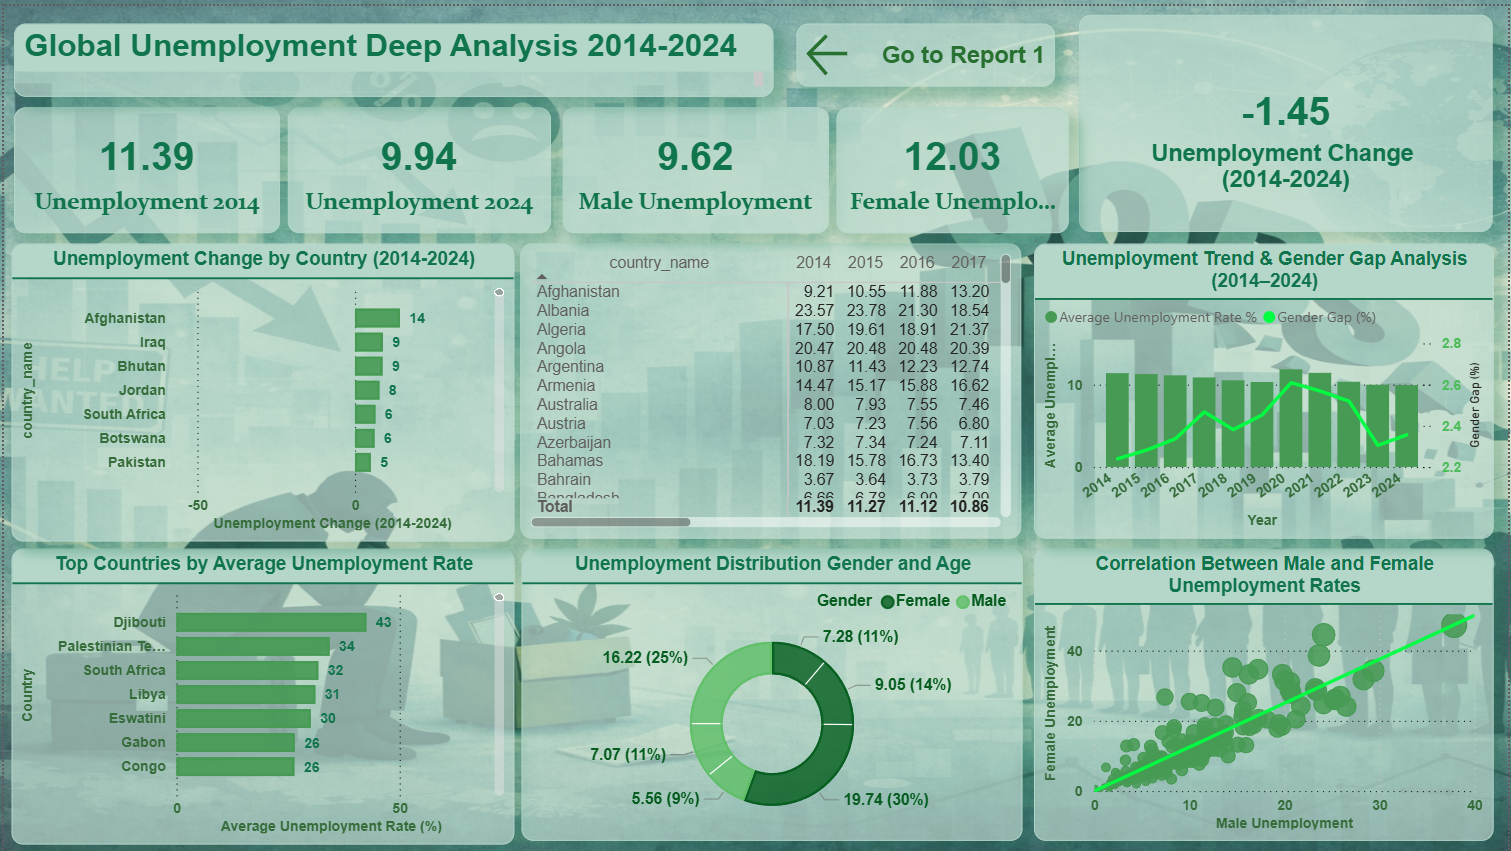

Layout of this report page (visuals, bound fields, positions):
{"tool":"powerbi","page":{"name":"Global Unemployment Deep Analysis 2014-2024","canvas":[1280,720],"ordinal":1},"visuals":[{"type":"clusteredBarChart","title":"Top Countries by Average Unemployment Rate ","fields":{"Category":["global_unemployment_data.country_name"],"Y":["global_unemployment_data.Average Unemployment Rate %"]},"box":[5.9,461.6,428.3,252.2],"z":0},{"type":"donutChart","title":"Unemployment Distribution Gender and Age","fields":{"Category":["global_unemployment_data.sex"],"Y":["global_unemployment_data.Average Unemployment Rate %"],"Series":["global_unemployment_data.age_categories"]},"box":[440.7,461.6,426.7,248.8],"z":1000},{"type":"card","fields":{"Values":["global_unemployment_data.Unemployment 2014"]},"box":[8.3,85.7,226.1,107.1],"z":2000},{"type":"card","fields":{"Values":["global_unemployment_data.Unemployment 2024"]},"box":[241.5,85.7,223.7,107.1],"z":3000},{"type":"card","fields":{"Values":["global_unemployment_data.Unemployment Change (2014-2024)"]},"box":[914.7,7.4,352.2,185],"z":4000},{"type":"clusteredBarChart","title":"Unemployment Change by Country (2014-2024)","fields":{"Category":["global_unemployment_data.country_name"],"Y":["global_unemployment_data.Unemployment Change (2014-2024)"]},"box":[5.9,202.3,428.3,253.4],"z":5000},{"type":"pivotTable","fields":{"Rows":["global_unemployment_data.country_name"],"Columns":["global_unemployment_data.Year","global_unemployment_data.sex"],"Values":["global_unemployment_data.Average Unemployment Rate %"]},"box":[439.5,202.3,426.7,251.2],"z":6000},{"type":"scatterChart","title":"Correlation Between Male and Female Unemployment Rates","fields":{"X":["global_unemployment_data.Male Unemployment"],"Y":["global_unemployment_data.Female Unemployment"],"Size":["global_unemployment_data.Average Unemployment Rate %"],"Category":["global_unemployment_data.country_name"]},"box":[876.9,461.6,391.1,249.2],"z":7000},{"type":"card","fields":{"Values":["global_unemployment_data.Male Unemployment"]},"box":[475.9,85.7,226.1,107.1],"z":8000},{"type":"card","fields":{"Values":["global_unemployment_data.Female Unemployment"]},"box":[708.1,86,197.7,107],"z":9000},{"type":"lineClusteredColumnComboChart","title":"Unemployment Trend & Gender Gap Analysis (2014–2024)","fields":{"Category":["global_unemployment_data.Year"],"Y":["global_unemployment_data.Average Unemployment Rate %"],"Y2":["global_unemployment_data.Gender Gap (%)"]},"box":[877,202,391,251],"z":10000},{"type":"textbox","title":"Global Unemployment Deep Analysis 2014-2024","box":[8.1,15.1,646.5,62.8],"z":11000},{"type":"actionButton","box":[674.4,15.1,219.8,53.5],"z":12000}]}

Visuals, with their boxes in screenshot pixels (x1, y1, x2, y2), scaled from the page's 1280x720 canvas onto the 1511x851 screenshot:
"Top Countries by Average Unemployment Rate " clusteredBarChart: (7, 546, 513, 844)
"Unemployment Distribution Gender and Age" donutChart: (520, 546, 1024, 840)
card - global_unemployment_data.Unemployment 2014: (10, 101, 277, 228)
card - global_unemployment_data.Unemployment 2024: (285, 101, 549, 228)
card - global_unemployment_data.Unemployment Change (2014-2024): (1080, 9, 1496, 227)
"Unemployment Change by Country (2014-2024)" clusteredBarChart: (7, 239, 513, 539)
pivotTable - global_unemployment_data.country_name x global_unemployment_data.Year: (519, 239, 1023, 536)
"Correlation Between Male and Female Unemployment Rates" scatterChart: (1035, 546, 1497, 840)
card - global_unemployment_data.Male Unemployment: (562, 101, 829, 228)
card - global_unemployment_data.Female Unemployment: (836, 102, 1069, 228)
"Unemployment Trend & Gender Gap Analysis (2014–2024)" lineClusteredColumnComboChart: (1035, 239, 1497, 535)
"Global Unemployment Deep Analysis 2014-2024" textbox: (10, 18, 773, 92)
actionButton: (796, 18, 1056, 81)
